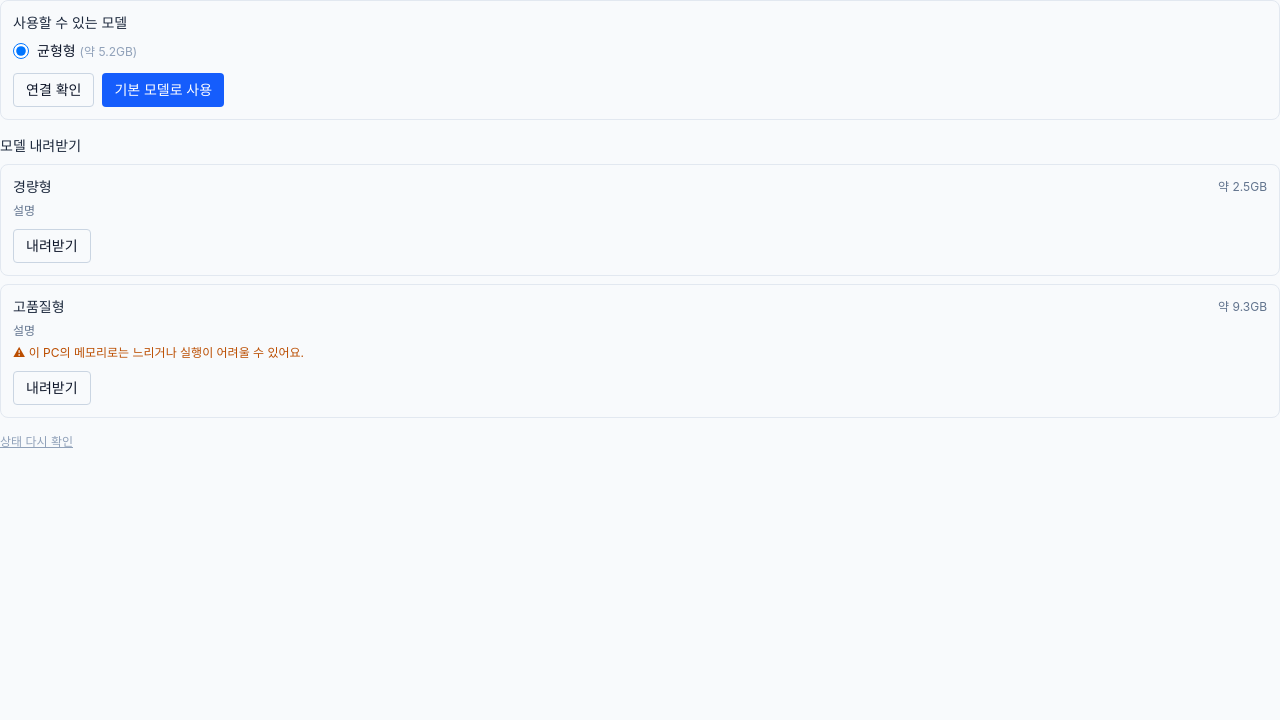
Scenario: LocalAiSection › 설치된 모델은 연결 확인·기본 설정할 수 있고 외부 설정 덮어쓰기를 확인받는다
Click the button "기본 모델로 사용" at (163, 90), box [102,73,224,107]
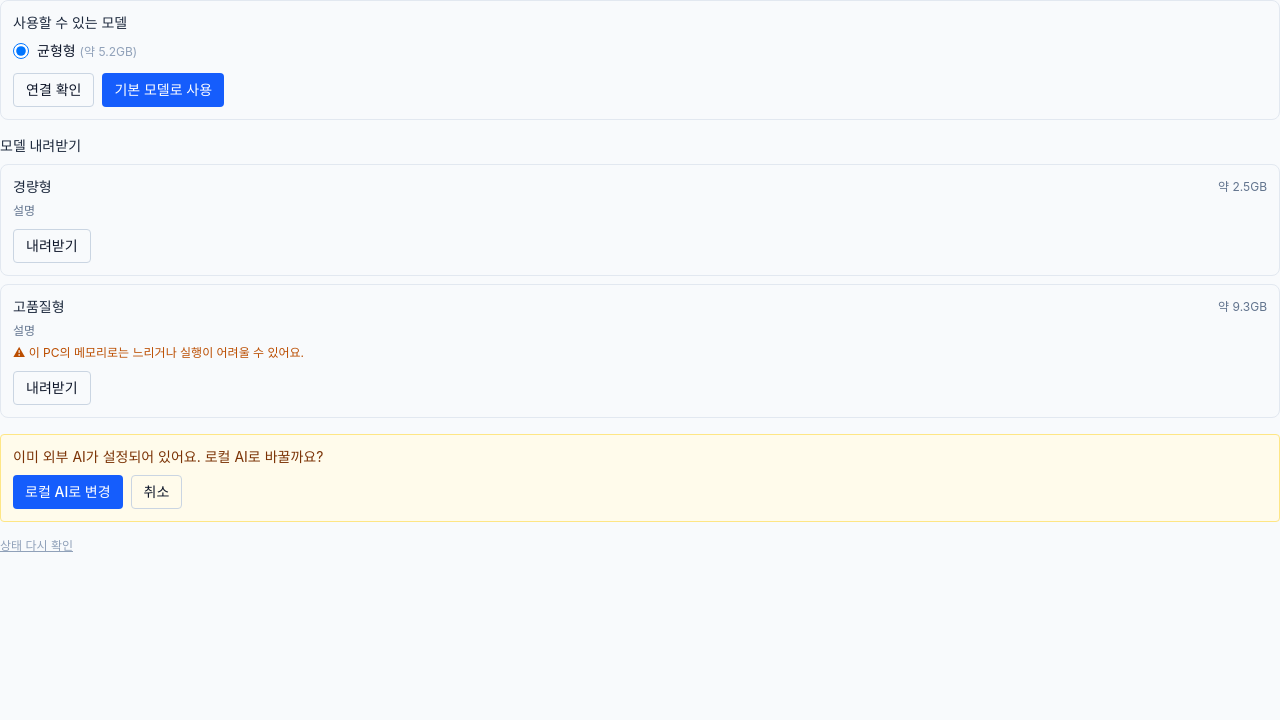
확인창 → 변경
Click the button "로컬 AI로 변경" at (68, 492), box [13,475,123,509]
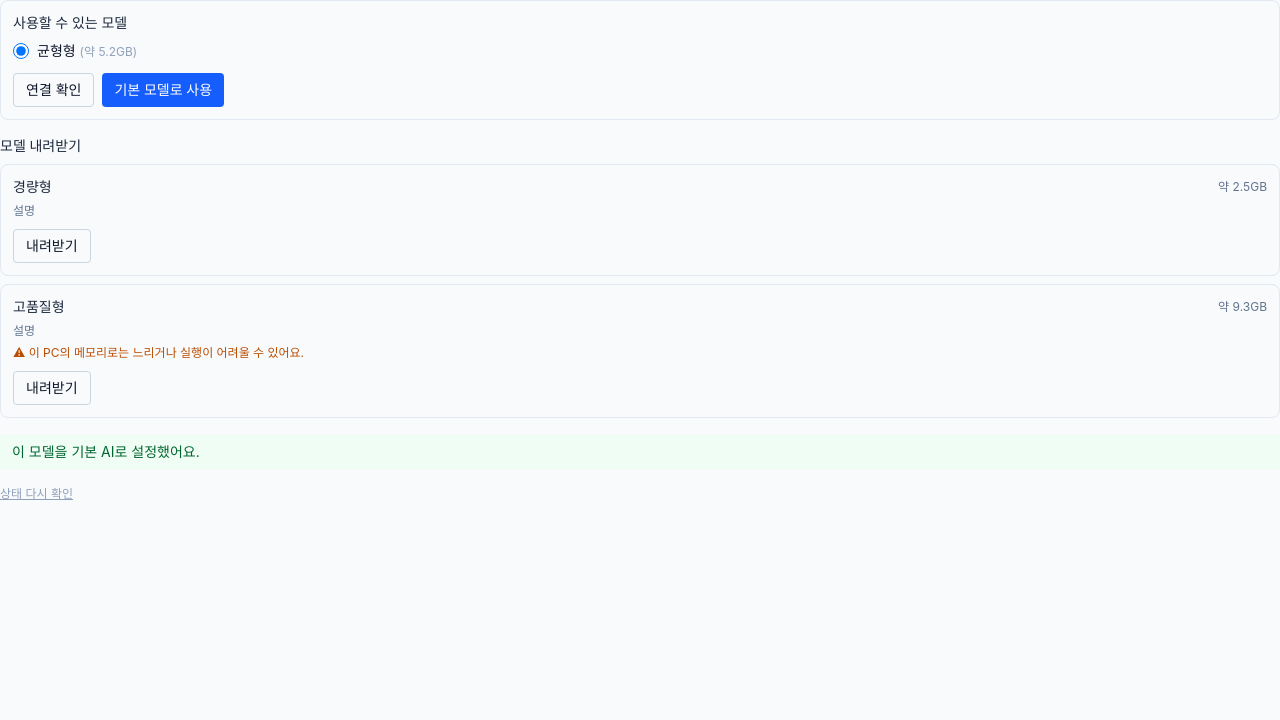
Check: the text "이 모델을 기본 AI로 설정했어요." is shown, box [0,434,1279,470]
